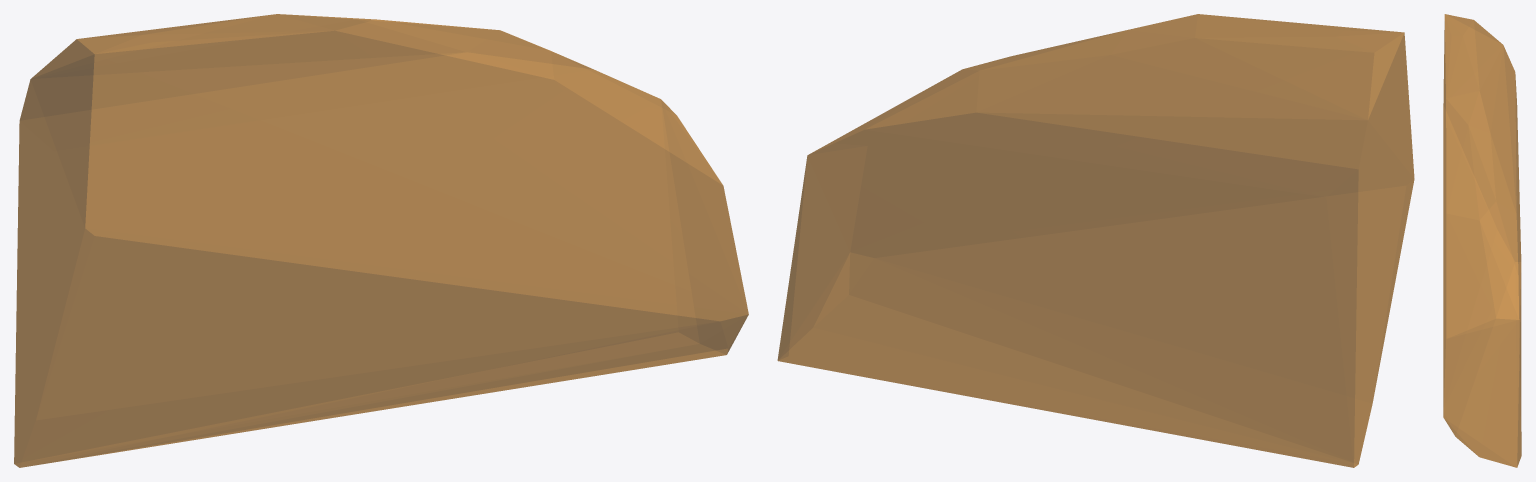
3 views of the same model, side by side, from view 1: azimuth 30°, elevation 25°; view 2: azimuth 150°, elevation 25°; view 3: azimuth 270°, elevation 25° (orthographic). The views are drawn at different scales.
Visible parts, largest first — view 1: Shape_IndexedFaceSet.011_Shape_IndexedFaceSet.416; view 2: Shape_IndexedFaceSet.011_Shape_IndexedFaceSet.416; view 3: Shape_IndexedFaceSet.011_Shape_IndexedFaceSet.416.
Part boxes in pixels (box(x1,y1,x2,y2)): Shape_IndexedFaceSet.011_Shape_IndexedFaceSet.416: box(14, 14, 748, 467); Shape_IndexedFaceSet.011_Shape_IndexedFaceSet.416: box(777, 14, 1414, 467); Shape_IndexedFaceSet.011_Shape_IndexedFaceSet.416: box(1443, 14, 1521, 467).
Bounding box in the file's own units: 0.2611 × 0.1836 × 0.0473.
